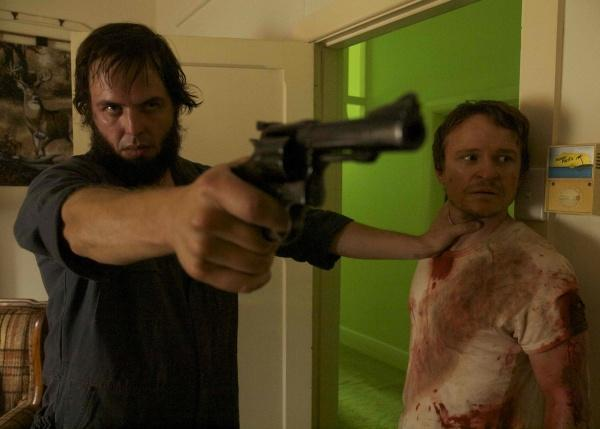Gun: (232, 89, 429, 233)
